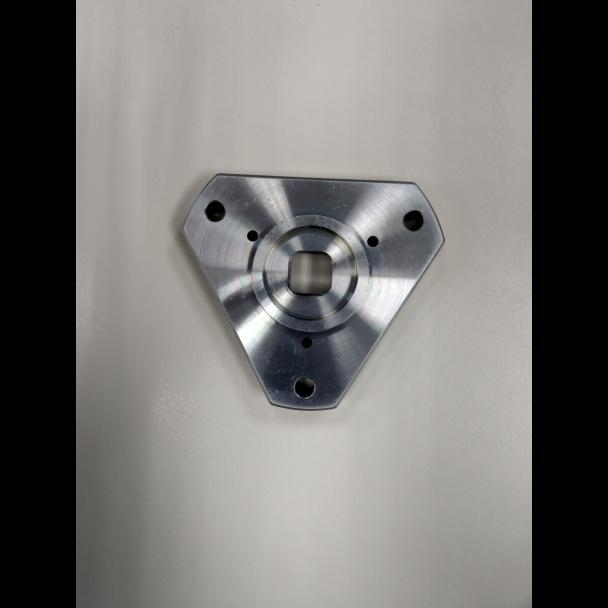hole: (290, 373, 317, 400), (202, 198, 227, 223), (401, 208, 426, 232), (245, 228, 259, 242), (300, 334, 313, 349), (366, 234, 380, 247)
